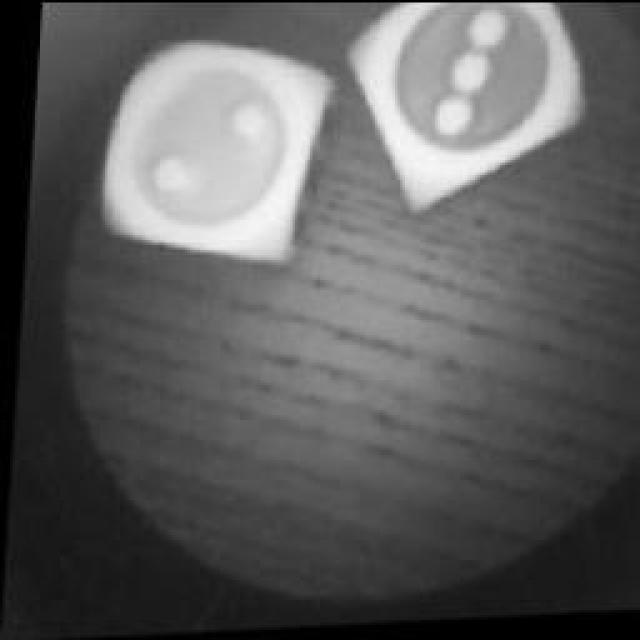dice_2: (82, 35, 332, 267)
dice_3: (326, 0, 581, 202)
